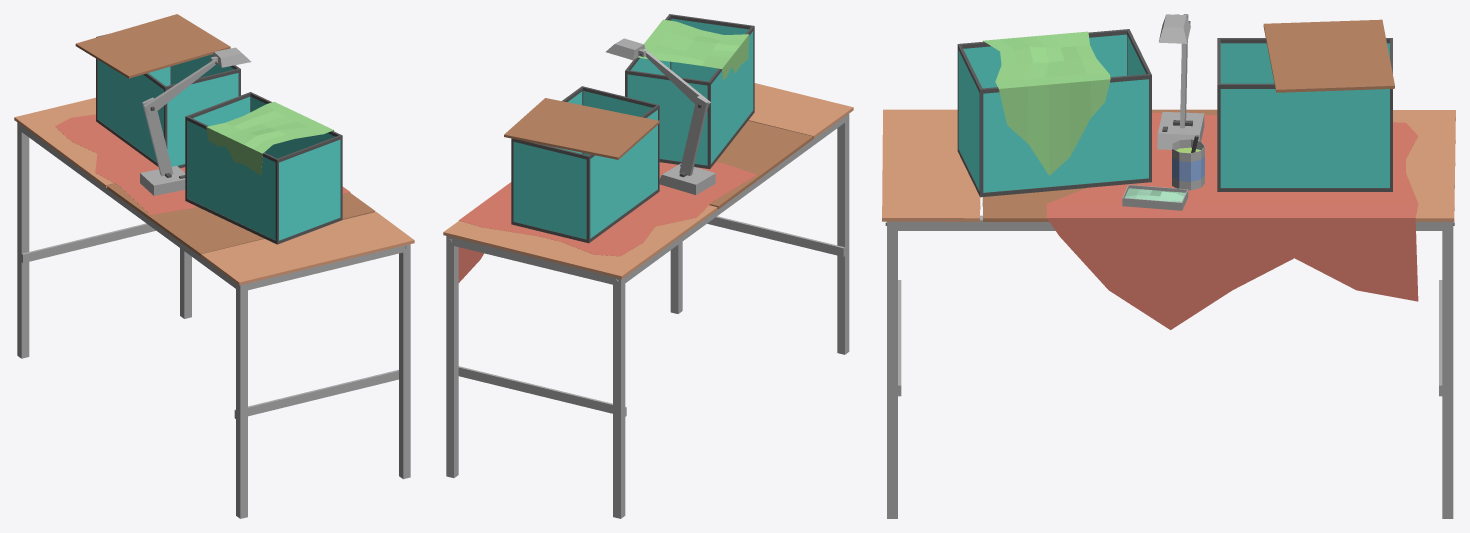
Rendered from Incubator1.fbx.
3 renders of one model, left to right at view 1: azimuth 30°, elevation 25°; view 2: azimuth 150°, elevation 25°; view 3: azimuth 270°, elevation 25°, orthographic. The views are drawn at different scales.
Parts seen in each view (by area): view 1: Incubator1; view 2: Incubator1; view 3: Incubator1.
Boxes of the visible parts, bbox=[...] form: Incubator1: bbox=[14, 14, 414, 518]; Incubator1: bbox=[443, 14, 853, 518]; Incubator1: bbox=[882, 14, 1455, 518].
Size of the model in its own units: 113 by 216 by 247.
